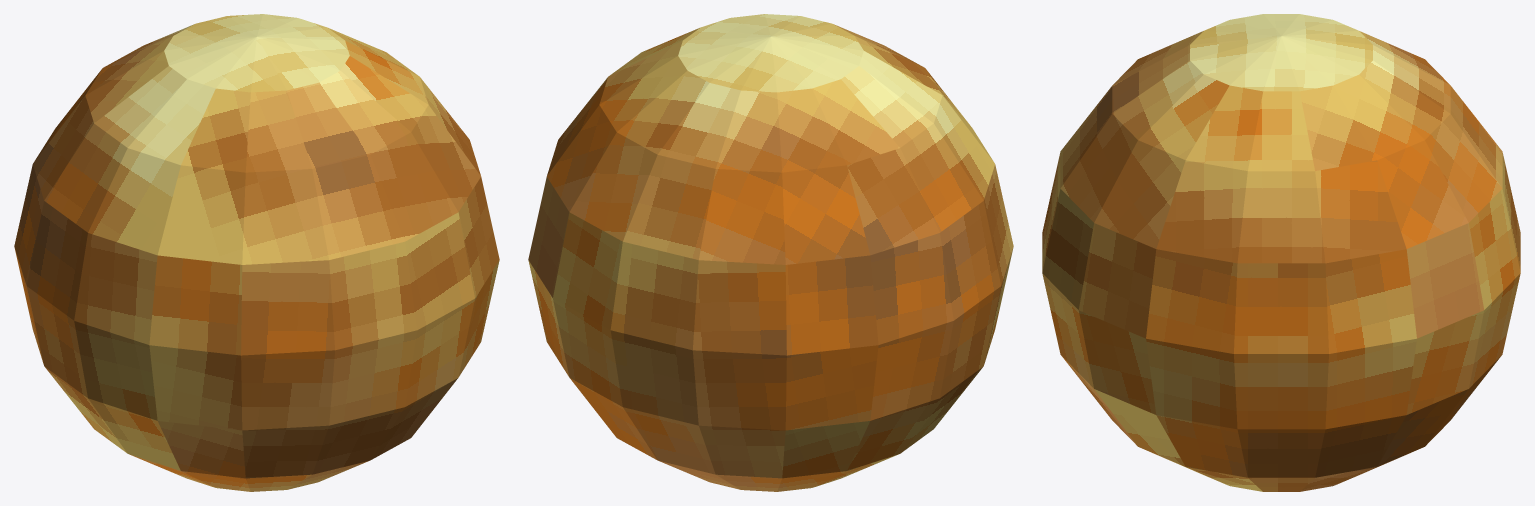
Rendered from venus.fbx.
3 views of the same model, side by side, from view 1: azimuth 30°, elevation 25°; view 2: azimuth 150°, elevation 25°; view 3: azimuth 270°, elevation 25° (orthographic).
Parts seen in each view (by area): view 1: sphere; view 2: sphere; view 3: sphere.
Part boxes in pixels (<box>): sphere: <box>14,14,499,491</box>; sphere: <box>528,14,1013,491</box>; sphere: <box>1042,14,1520,491</box>.
Bounding box in the file's own units: 100 × 100 × 100.
Materials: 1 (1 with a texture image).
